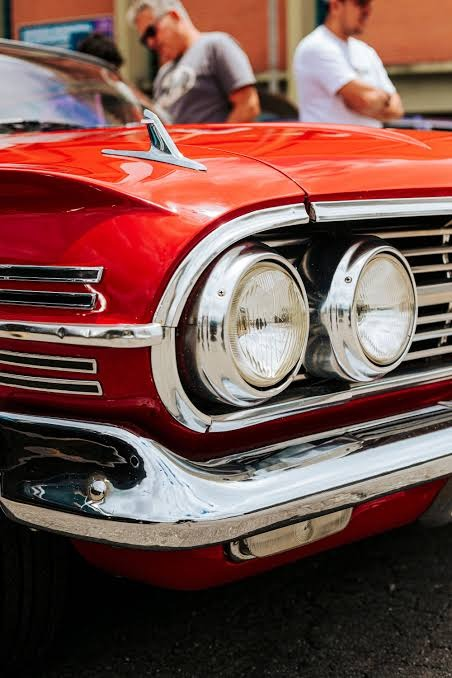car: (1, 54, 452, 588), (6, 38, 129, 128), (11, 15, 123, 71)
